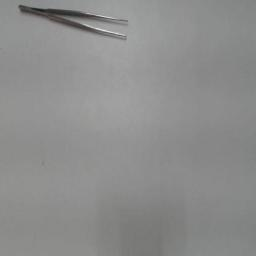Gillies Toothed Dissector: (18, 3, 132, 43)
